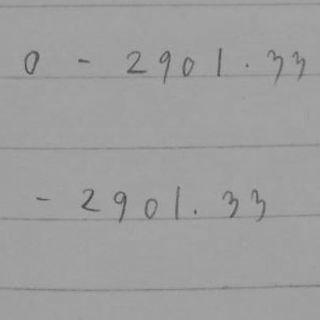.: (192, 207, 199, 219), (245, 62, 250, 69)
0: (23, 50, 40, 75), (143, 197, 159, 221), (181, 56, 195, 78)
1: (174, 183, 181, 224), (216, 47, 222, 76)
2: (81, 187, 101, 214), (126, 49, 147, 74)
3: (249, 188, 268, 223), (265, 49, 283, 84), (221, 189, 239, 219), (291, 51, 306, 81)
9: (113, 190, 128, 224), (158, 50, 171, 85)
